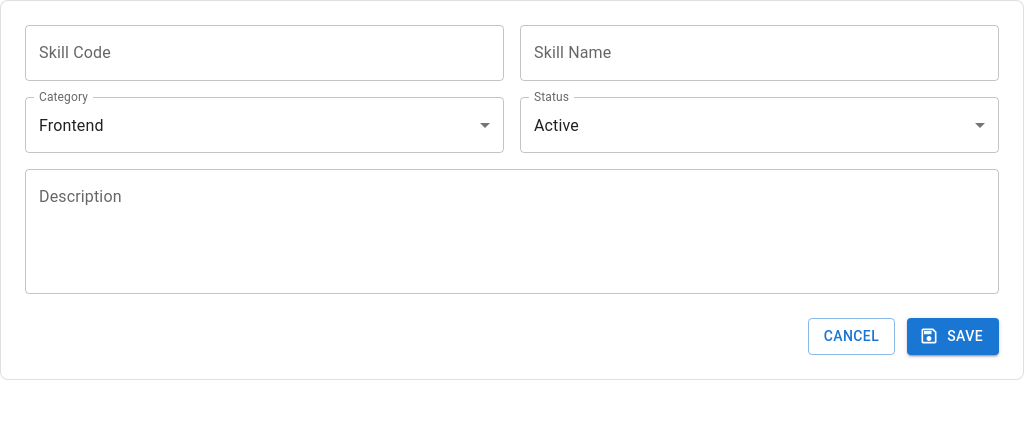
SkillForm › shows validation when required values are missing
Click the button "Save" at x=953, y=336, box left=907, top=318, right=999, bottom=354
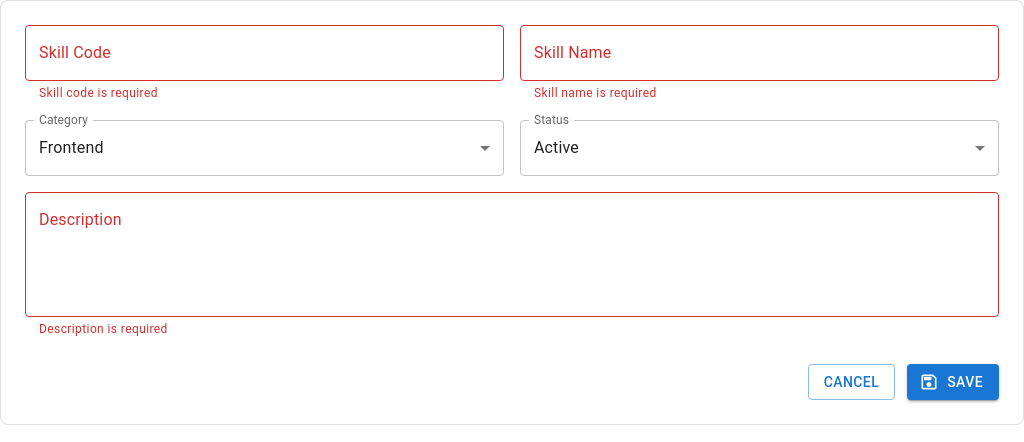
Expected: the text "Skill code is required" is shown, left=39, top=86, right=158, bottom=100
Expected: the text "Skill name is required" is shown, left=534, top=86, right=657, bottom=100
